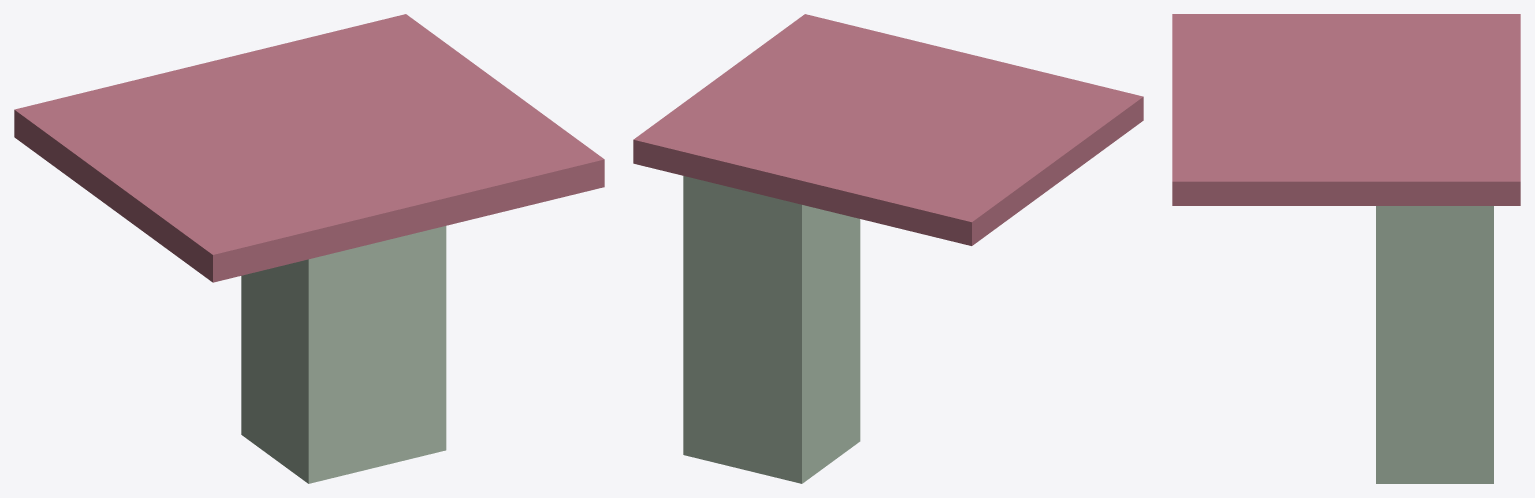
3 views of the same model, side by side, from view 1: azimuth 30°, elevation 25°; view 2: azimuth 150°, elevation 25°; view 3: azimuth 270°, elevation 25° (orthographic). The views are drawn at different scales.
Parts seen in each view (by area): view 1: world; view 2: world; view 3: world.
Boxes of the visible parts, x1,y1,x2,y2 form: world: (14, 14, 604, 483); world: (633, 14, 1143, 483); world: (1172, 14, 1520, 483).
Bounding box in the file's own units: 7.4 × 6.6 × 6.5.
